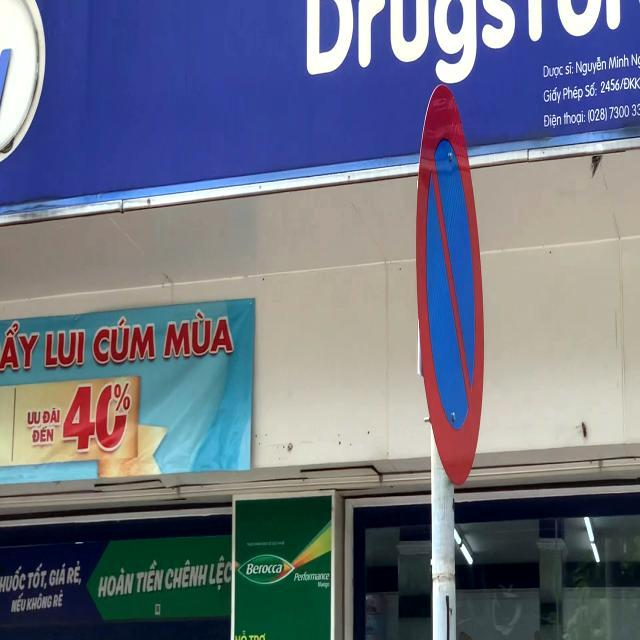Cam do xe: (416, 82, 486, 492)
